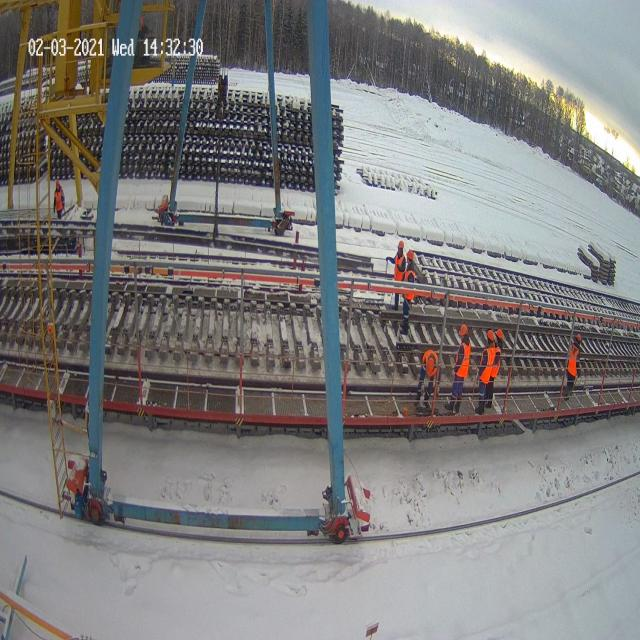Helmet: (458, 324, 468, 336), (487, 329, 494, 341), (496, 328, 503, 340), (406, 250, 414, 260), (398, 240, 404, 249), (576, 334, 581, 342)
Person: (444, 323, 471, 415), (474, 328, 502, 416), (414, 349, 440, 411), (563, 333, 581, 398), (392, 240, 406, 310), (53, 177, 65, 219)
